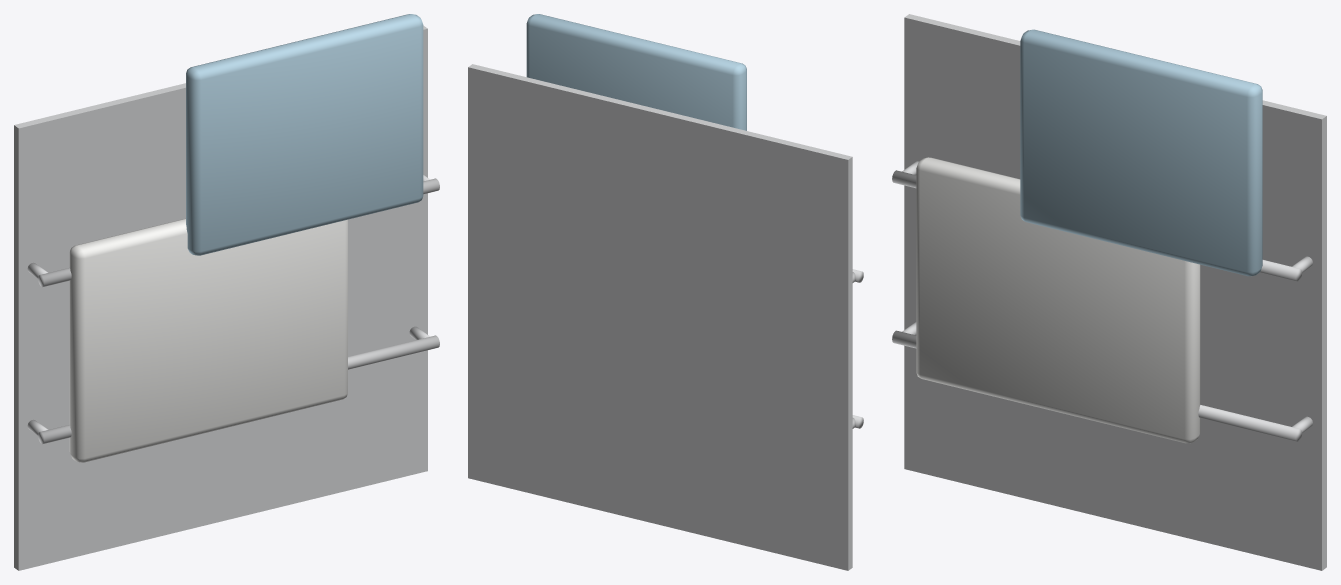
Rendered from fxtowelrack.glb.
The picture shows the model from 3 angles, left to right: view 1: azimuth 30°, elevation 25°; view 2: azimuth 150°, elevation 25°; view 3: azimuth 330°, elevation 25°; orthographic projection. The views are drawn at different scales.
Parts seen in each view (by area): view 1: plate, towel_a, towel_b, bar0, bar1; view 2: plate, towel_b; view 3: plate, towel_a, towel_b, bar0, bar1.
Boxes of the visible parts, x1,y1,x2,y2 form: plate: (14,25,427,570); towel_a: (69,218,347,462); towel_b: (186,14,423,255); bar0: (38,335,439,444); bar1: (38,178,439,287); plate: (468,64,852,570); towel_b: (526,14,746,130); plate: (904,14,1326,570); towel_a: (916,157,1200,443); towel_b: (1020,29,1262,276); bar0: (892,330,1302,441); bar1: (892,170,1302,281).
Bounding box in the file's own units: 0.6 × 0.68 × 0.095.
